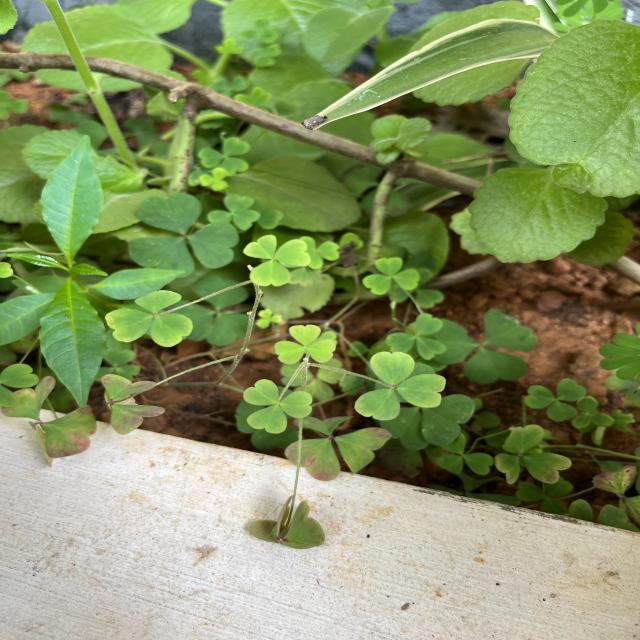Oxalis corniculata: (125, 190, 240, 279), (353, 350, 447, 420), (104, 289, 194, 348), (493, 423, 573, 485), (243, 378, 313, 434), (242, 234, 312, 288), (384, 312, 446, 360), (523, 377, 587, 422), (274, 323, 337, 365), (361, 256, 421, 296), (198, 136, 251, 177)
